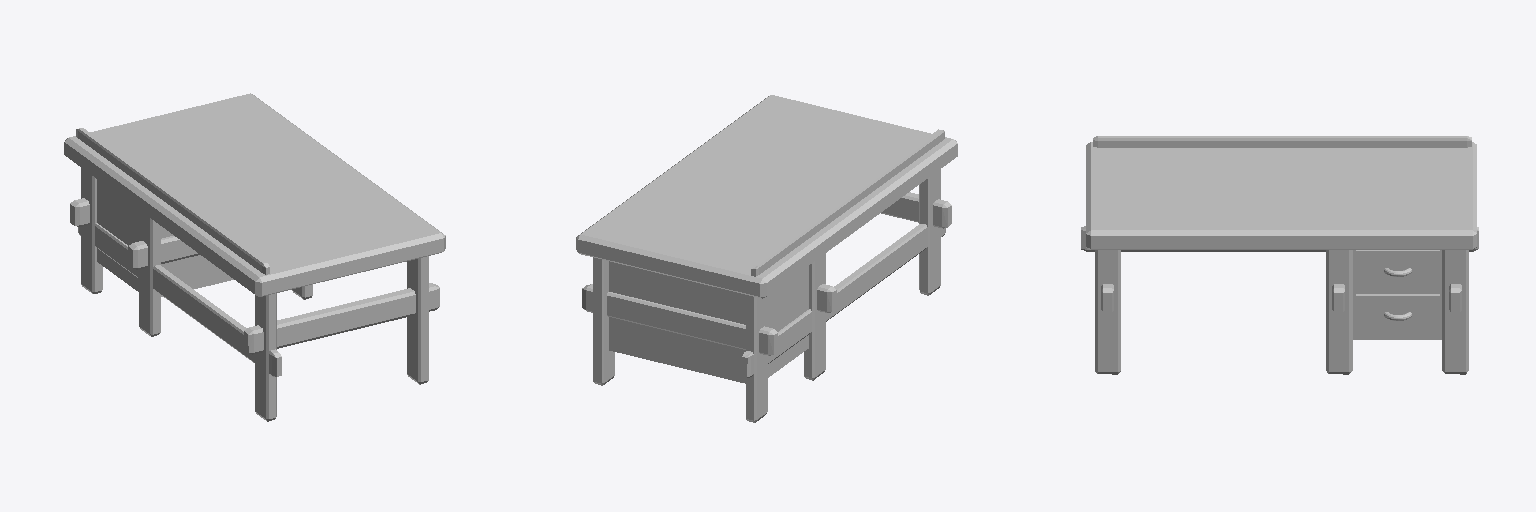
Rendered from bureau1.obj.
3 views of the same model, side by side, from view 1: azimuth 30°, elevation 25°; view 2: azimuth 150°, elevation 25°; view 3: azimuth 270°, elevation 25° (orthographic).
Parts seen in each view (by area): view 1: Cube.007; view 2: Cube.007; view 3: Cube.007.
Part boxes in pixels (left/top/right/bottom): Cube.007: left=64, top=93, right=445, bottom=421; Cube.007: left=576, top=95, right=957, bottom=422; Cube.007: left=1081, top=136, right=1478, bottom=374.
Size of the model in its own units: 0.5042 by 0.3986 by 0.905.